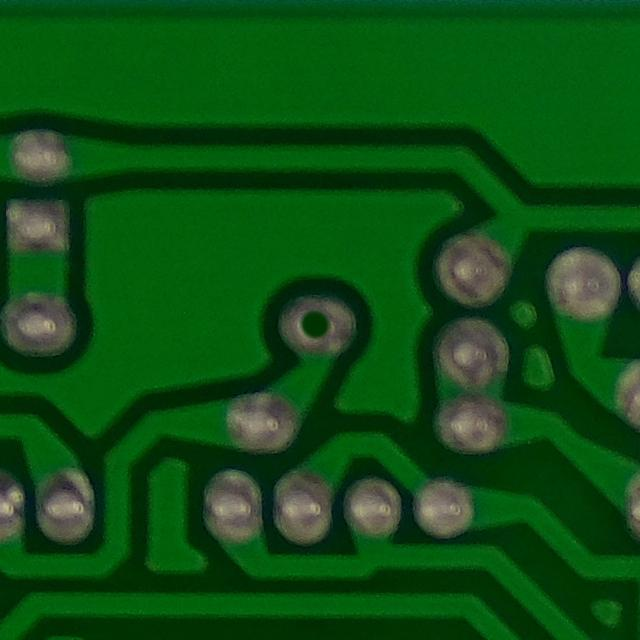missing_hole: (280, 287, 361, 354)
